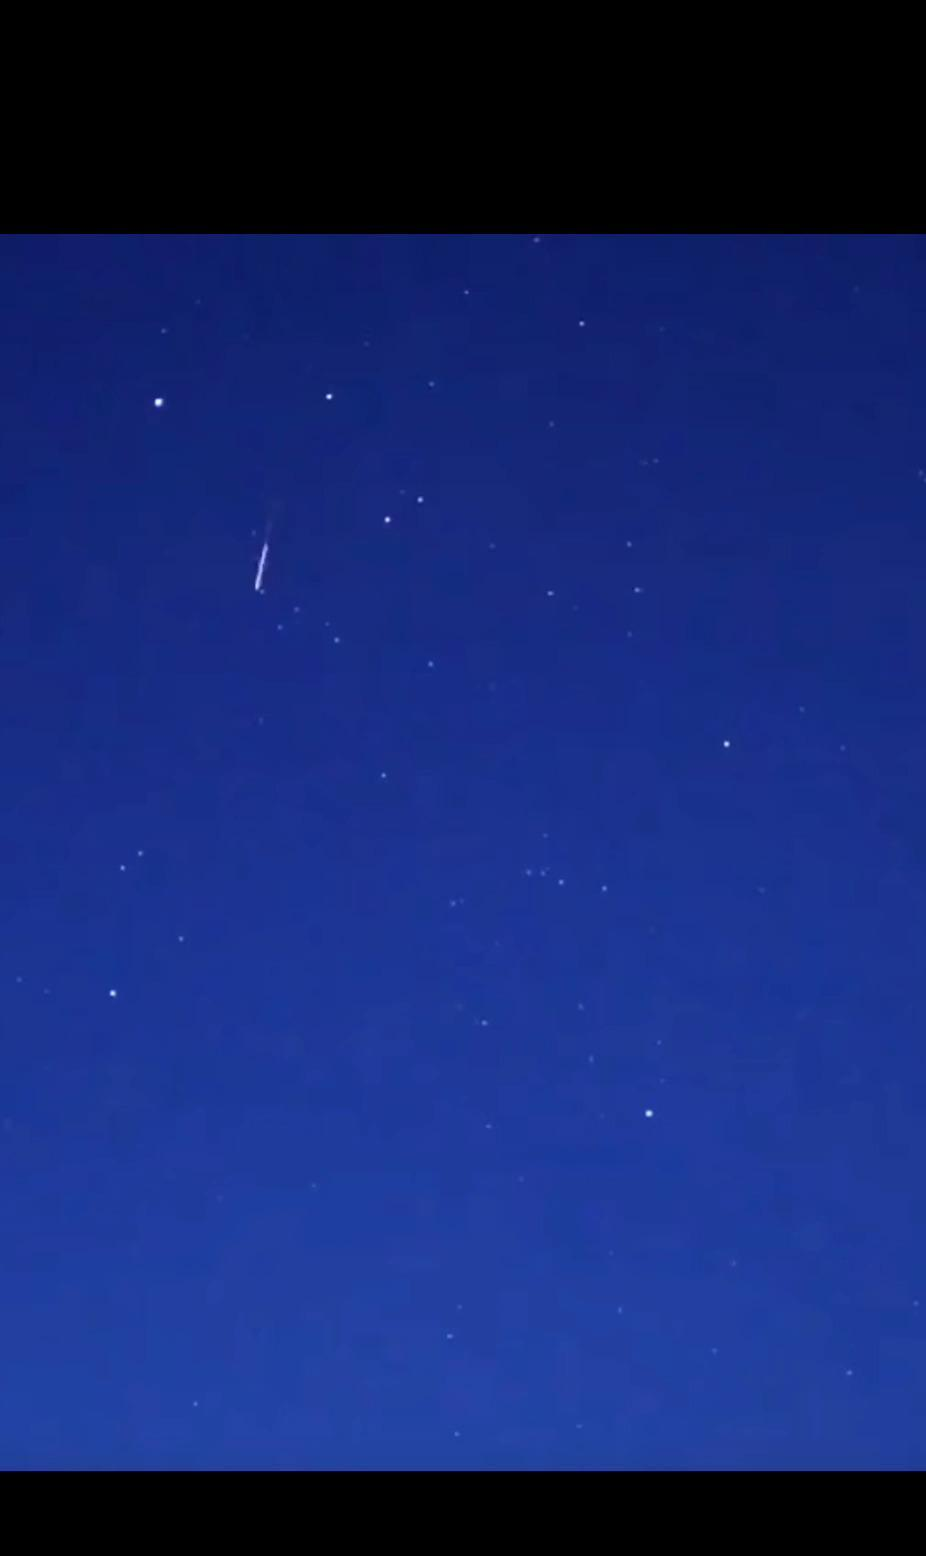meteorite: (232, 512, 299, 609)
